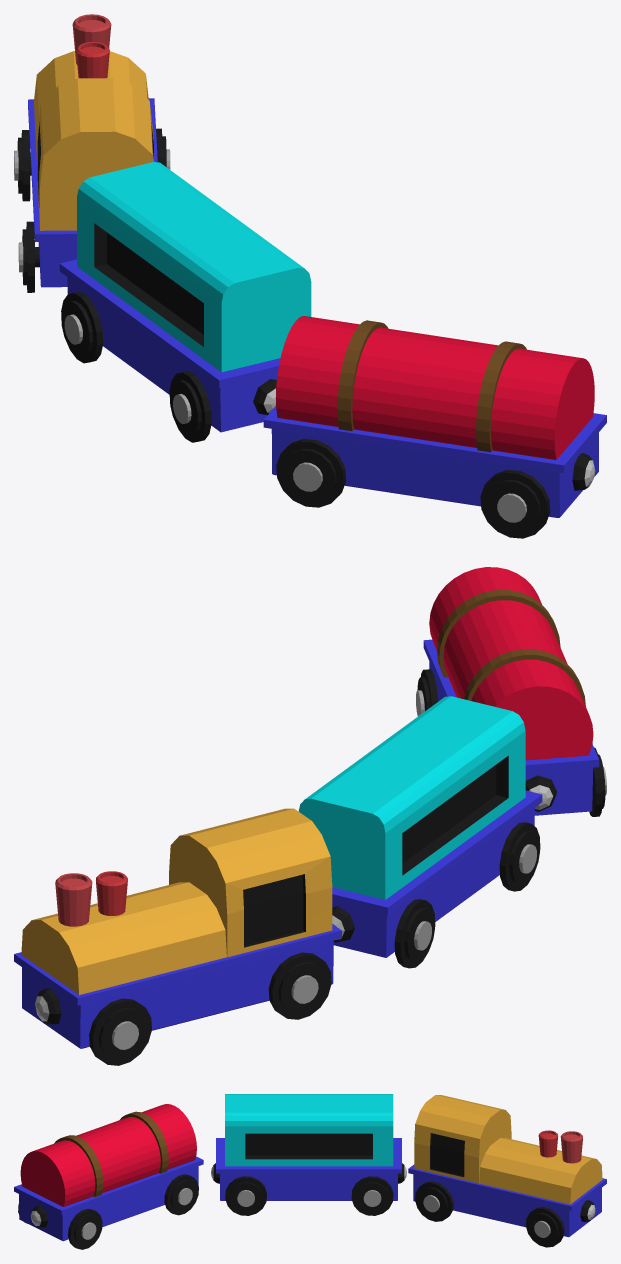
File: Spoor.fbx
3 renders of one model, top to bottom at view 1: azimuth 30°, elevation 25°; view 2: azimuth 150°, elevation 25°; view 3: azimuth 270°, elevation 25°, orthographic. The views are drawn at different scales.
Parts seen in each view (by area): view 1: Train; view 2: Train; view 3: Train.
Boxes of the visible parts, <box> form: Train: <box>14,14,606,538</box>; Train: <box>14,567,606,1065</box>; Train: <box>14,1094,606,1249</box>.
Size of the model in its own units: 428 by 268 by 1408.
